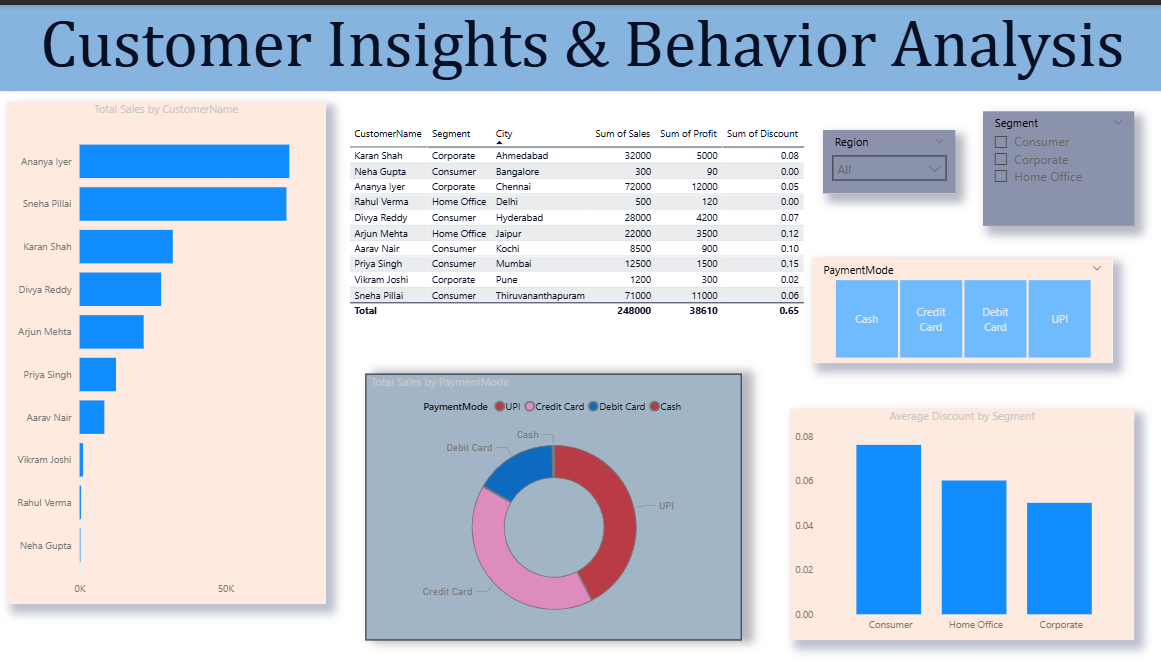

What the dashboard file says about the page in this screenshot:
{"tool":"powerbi","page":{"name":"Page 3","canvas":[1280,720],"ordinal":2},"visuals":[{"type":"textbox","box":[0,0,1280.3,94.7],"z":0},{"type":"donutChart","fields":{"Category":["retail_sales_data.PaymentMode"],"Y":["retail_sales_data.Total Sales"]},"box":[402.6,403.9,412.2,291.7],"z":1000},{"type":"barChart","fields":{"Category":["retail_sales_data.CustomerName"],"Y":["retail_sales_data.Total Sales"]},"box":[9.7,105.8,349.3,551.1],"z":2000},{"type":"columnChart","fields":{"Category":["retail_sales_data.Segment"],"Y":["retail_sales_data.Average Discount"]},"box":[868.1,442.3,376.6,253.3],"z":3000},{"type":"tableEx","fields":{"Values":["retail_sales_data.CustomerName","retail_sales_data.Segment","retail_sales_data.City","Sum(retail_sales_data.Sales)","Sum(retail_sales_data.Profit)","Sum(retail_sales_data.Discount)"]},"box":[379.3,127.3,520.3,228.7],"z":4000},{"type":"slicer","fields":{"Values":["retail_sales_data.Segment"]},"box":[1079,116.4,165.7,126],"z":5000},{"type":"slicer","fields":{"Values":["retail_sales_data.Region"]},"box":[903.7,136.9,145.1,69.8],"z":6000},{"type":"slicer","fields":{"Values":["retail_sales_data.PaymentMode"]},"box":[891.4,276.6,330,116.4],"z":7000}]}

Visuals, with their boxes in screenshot pixels (x1, y1, x2, y2), scaled from the page's 1280x720 canvas onto the 1161x662 screenshot:
textbox: {"left": 0, "top": 0, "right": 1160, "bottom": 87}
donutChart - retail_sales_data.PaymentMode x retail_sales_data.Total Sales: {"left": 365, "top": 371, "right": 739, "bottom": 640}
barChart - retail_sales_data.CustomerName x retail_sales_data.Total Sales: {"left": 9, "top": 97, "right": 326, "bottom": 604}
columnChart - retail_sales_data.Segment x retail_sales_data.Average Discount: {"left": 787, "top": 407, "right": 1129, "bottom": 640}
tableEx - retail_sales_data.CustomerName x retail_sales_data.Segment: {"left": 344, "top": 117, "right": 816, "bottom": 327}
slicer - retail_sales_data.Segment: {"left": 979, "top": 107, "right": 1129, "bottom": 223}
slicer - retail_sales_data.Region: {"left": 820, "top": 126, "right": 951, "bottom": 190}
slicer - retail_sales_data.PaymentMode: {"left": 809, "top": 254, "right": 1108, "bottom": 361}
